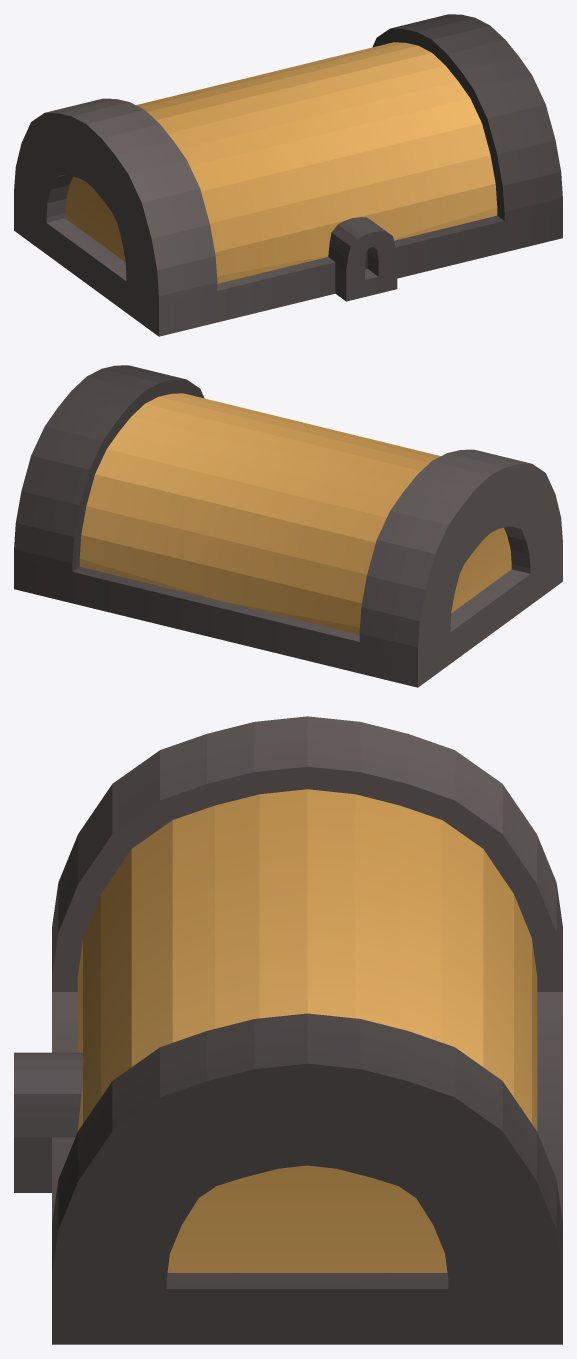
File: Safe Chest 2. Top.fbx
The picture shows the model from 3 angles, top to bottom: view 1: azimuth 30°, elevation 25°; view 2: azimuth 150°, elevation 25°; view 3: azimuth 270°, elevation 25°; orthographic projection. The views are drawn at different scales.
Parts seen in each view (by area): view 1: Safe Chest 2. Top; view 2: Safe Chest 2. Top; view 3: Safe Chest 2. Top.
Boxes of the visible parts, x1=… form: Safe Chest 2. Top: x1=14, y1=14, x2=562, y2=336; Safe Chest 2. Top: x1=14, y1=365, x2=562, y2=687; Safe Chest 2. Top: x1=14, y1=716, x2=562, y2=1344.
Size of the model in its own units: 103 by 38.66 by 68.47.
